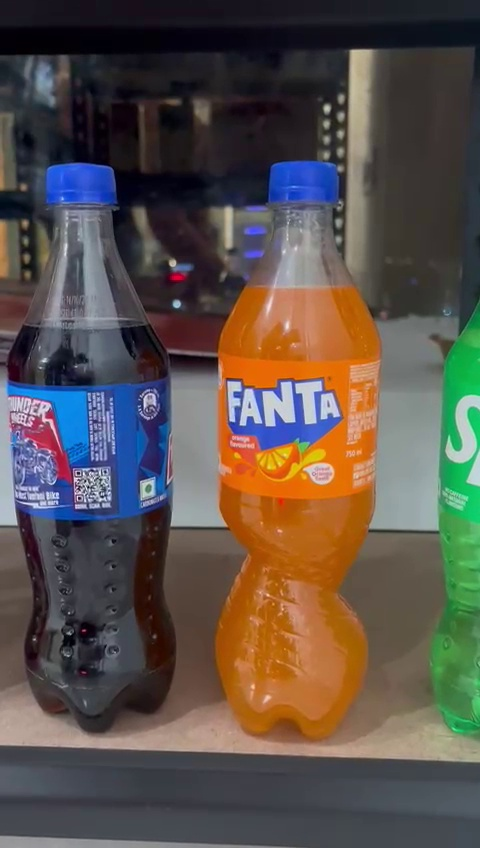Fanta: (209, 163, 398, 749)
Thums-up: (5, 160, 181, 750)
